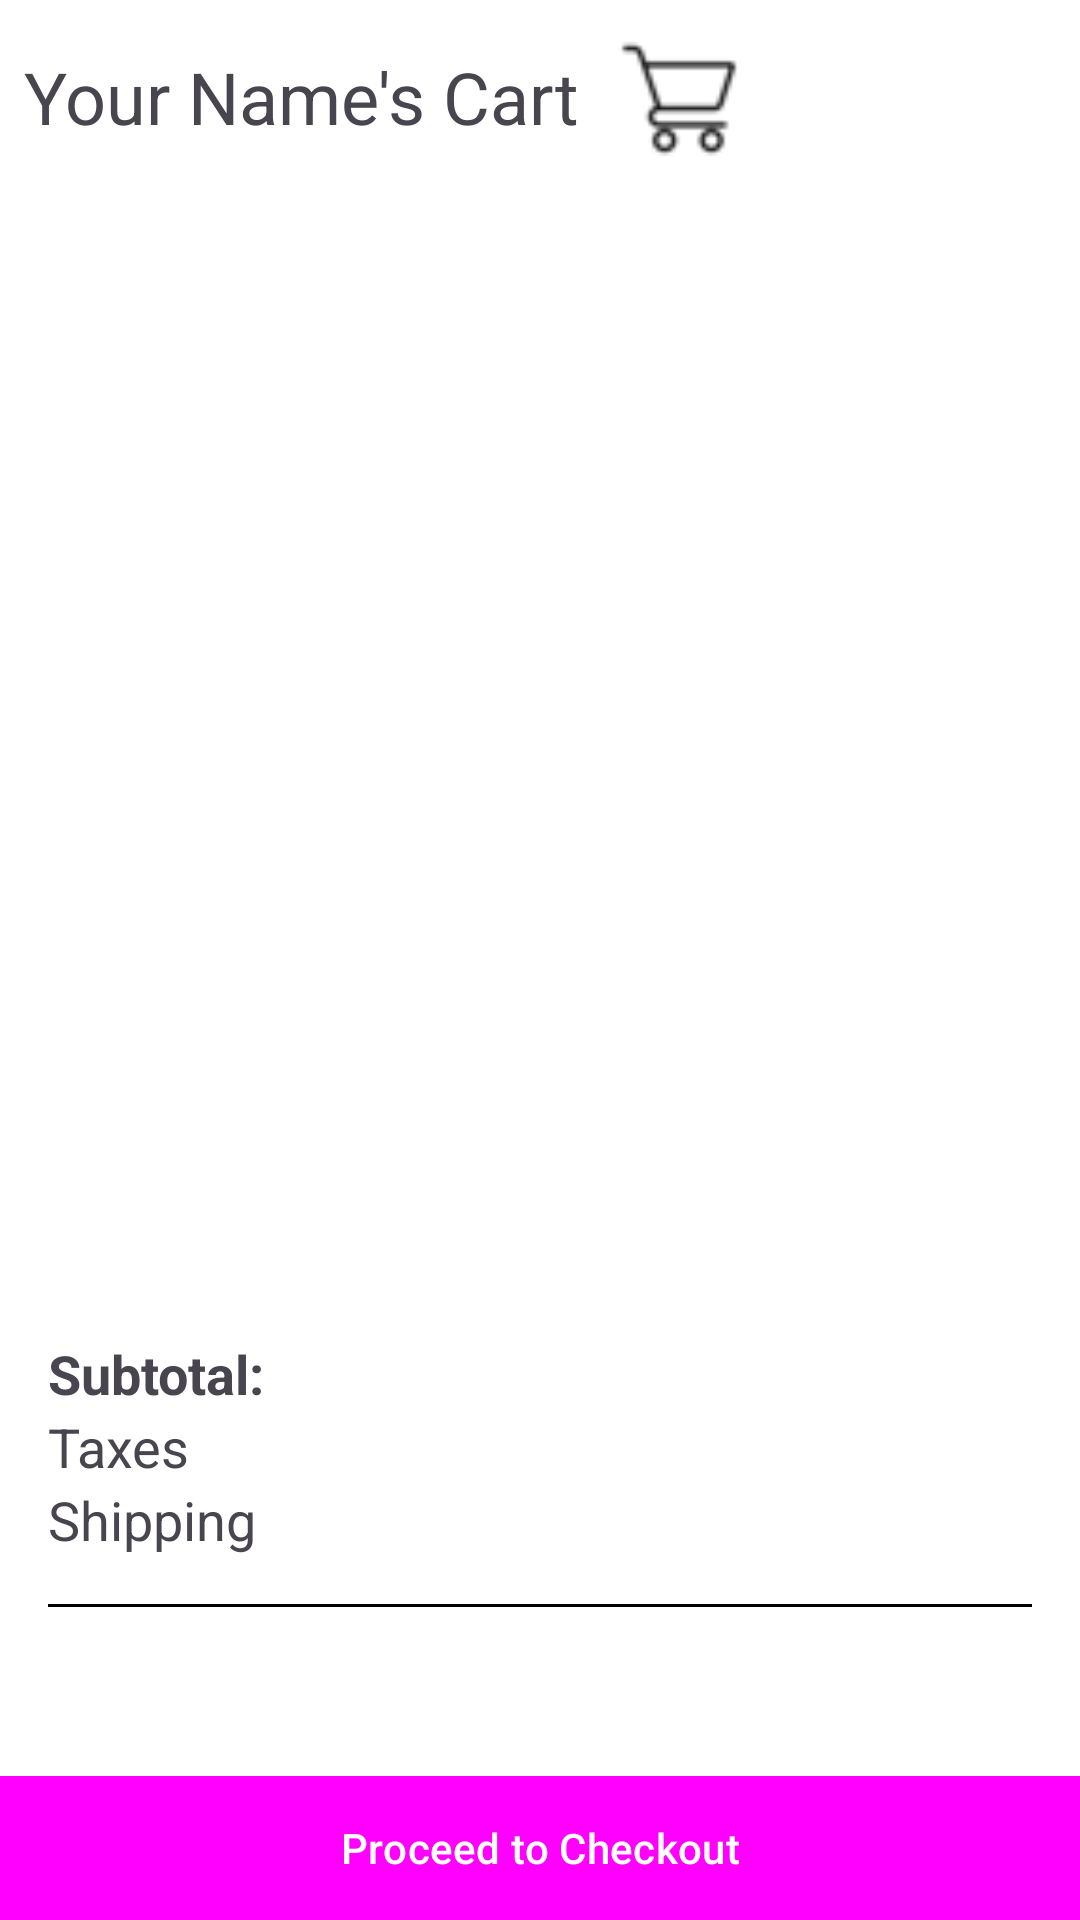

Locate icon controls on the screen. Image size 1080*1920, boxes as (x1, y1, x2, y2).
shoppingcart: (621, 43, 737, 155)
